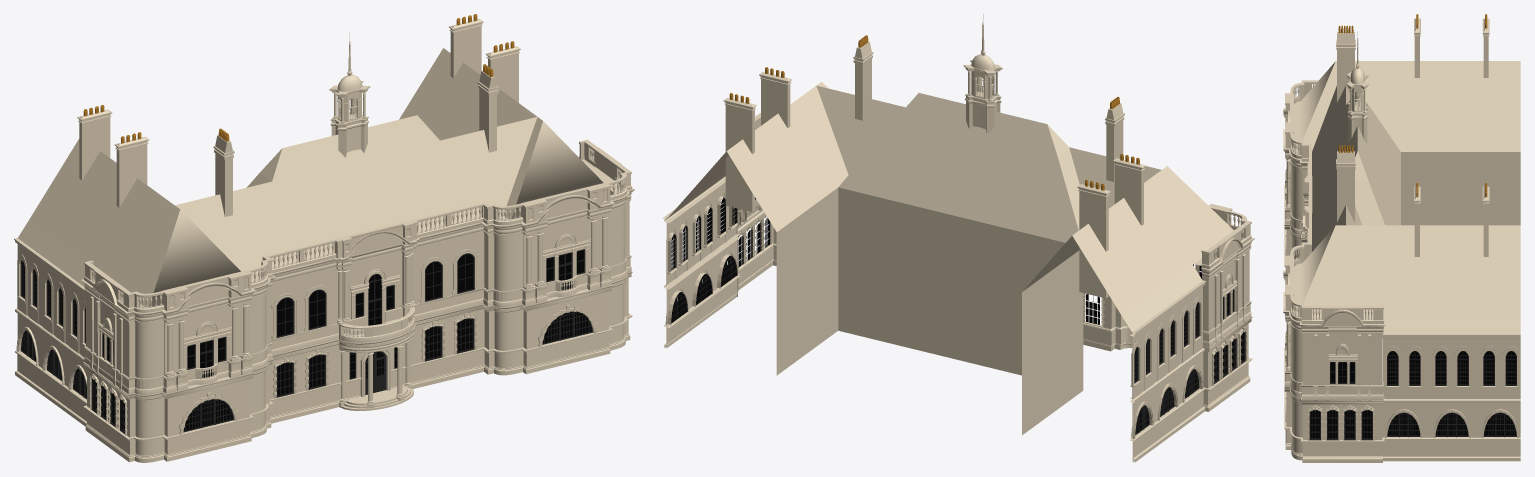
The picture shows the model from 3 angles, left to right: view 1: azimuth 30°, elevation 25°; view 2: azimuth 150°, elevation 25°; view 3: azimuth 270°, elevation 25°; orthographic projection. The views are drawn at different scales.
Parts seen in each view (by area): view 1: grp_business_01, grp_business_01_Windows_Glass, grp_business_01_Frames; view 2: grp_business_01, grp_business_01_Filler, grp_business_01_Windows_Glass, grp_business_01_Frames; view 3: grp_business_01, grp_business_01_Filler, grp_business_01_Windows_Glass, grp_business_01_Frames, grp_business_01_Tower_Roof.
Boxes of the visible parts, x1=… form: grp_business_01: x1=14, y1=14, x2=634, y2=462; grp_business_01_Windows_Glass: x1=22, y1=250, x2=591, y2=431; grp_business_01_Frames: x1=20, y1=249, x2=592, y2=433; grp_business_01: x1=663, y1=35, x2=1254, y2=462; grp_business_01_Filler: x1=776, y1=187, x2=1083, y2=435; grp_business_01_Windows_Glass: x1=671, y1=197, x2=1244, y2=433; grp_business_01_Frames: x1=671, y1=197, x2=1245, y2=435; grp_business_01: x1=1283, y1=14, x2=1520, y2=462; grp_business_01_Filler: x1=1401, y1=152, x2=1520, y2=225; grp_business_01_Windows_Glass: x1=1310, y1=351, x2=1516, y2=438; grp_business_01_Frames: x1=1309, y1=351, x2=1516, y2=440; grp_business_01_Tower_Roof: x1=1350, y1=31, x2=1365, y2=84.
Size of the model in its own units: 304 by 198 by 133.
